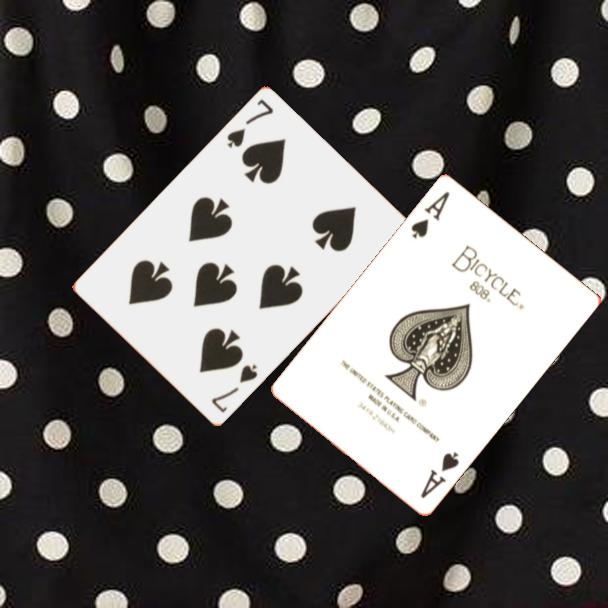s01: (407, 187, 453, 241), (417, 448, 462, 501)
s07: (223, 95, 276, 151), (208, 361, 261, 416)
